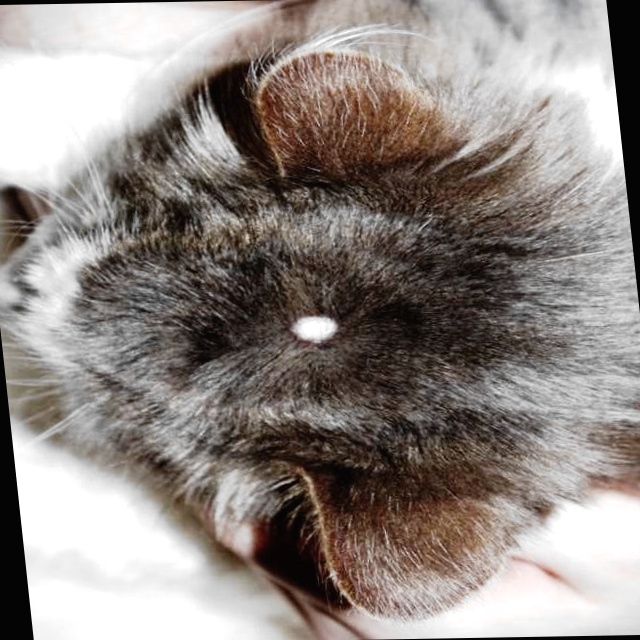lump_and_bump: (290, 318, 344, 343)
